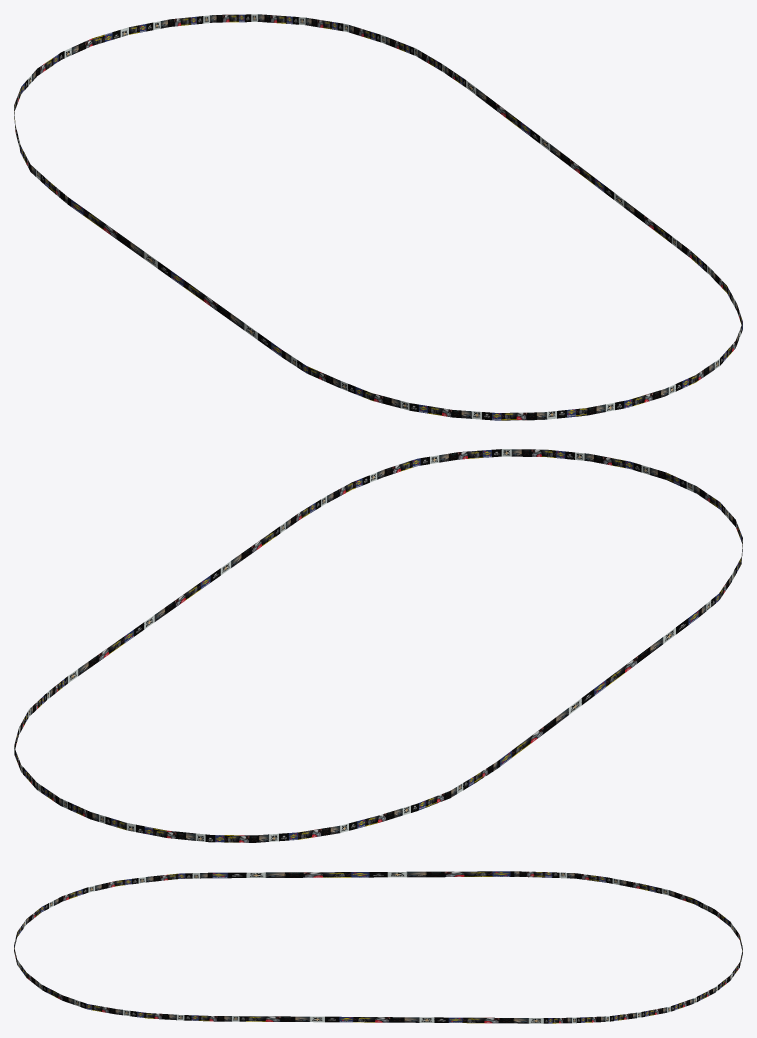
The model's file is border.glb.
The picture shows the model from 3 angles, top to bottom: view 1: azimuth 30°, elevation 25°; view 2: azimuth 150°, elevation 25°; view 3: azimuth 270°, elevation 25°; orthographic projection. The views are drawn at different scales.
Parts seen in each view (by area): view 1: Circle.002; view 2: Circle.002; view 3: Circle.002.
Boxes of the visible parts, x1=… form: Circle.002: x1=14, y1=14, x2=742, y2=420; Circle.002: x1=14, y1=449, x2=742, y2=842; Circle.002: x1=14, y1=871, x2=742, y2=1023.
Size of the model in its own units: 224 by 3.93 by 471.
1 material, 1 textured.
